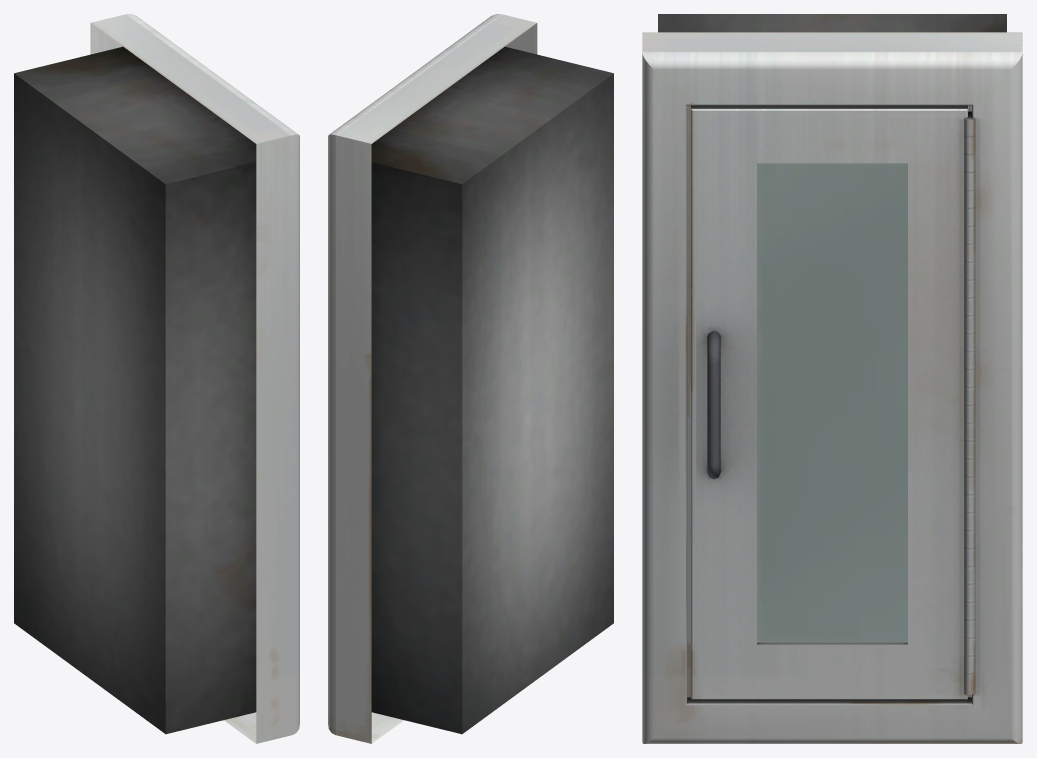
Rendered from fire_extinguisher_cabinet01.glb.
3 views of the same model, side by side, from view 1: azimuth 30°, elevation 25°; view 2: azimuth 150°, elevation 25°; view 3: azimuth 270°, elevation 25° (orthographic). The views are drawn at different scales.
Visible parts, largest first — view 1: fire_extinguisher_cabinet01; view 2: fire_extinguisher_cabinet01; view 3: fire_extinguisher_cabinet01.
Boxes of the visible parts, <box> form: fire_extinguisher_cabinet01: <box>14,14,299,743</box>; fire_extinguisher_cabinet01: <box>328,14,613,743</box>; fire_extinguisher_cabinet01: <box>642,14,1022,743</box>.
Size of the model in its own units: 0.2403 by 0.9144 by 0.4572.
Materials: 2 (2 with a texture image).
